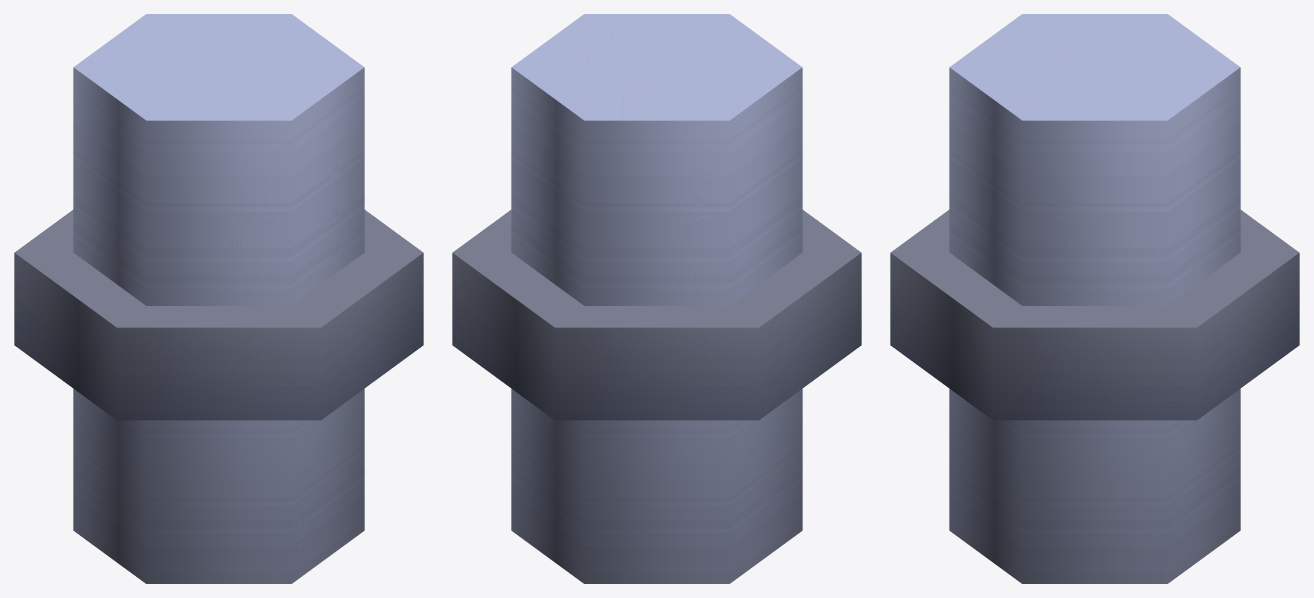
The model's file is pipe-ring.glb.
The picture shows the model from 3 angles, left to right: view 1: azimuth 30°, elevation 25°; view 2: azimuth 150°, elevation 25°; view 3: azimuth 270°, elevation 25°; orthographic projection.
Visible parts, largest first — view 1: pipe-ring; view 2: pipe-ring; view 3: pipe-ring.
Part boxes in pixels (x1=…): pipe-ring: x1=14, y1=14, x2=423, y2=583; pipe-ring: x1=452, y1=14, x2=861, y2=583; pipe-ring: x1=890, y1=14, x2=1299, y2=583.
Bounding box in the file's own units: 0.3464 × 0.5 × 0.4.
1 material, 1 textured.
